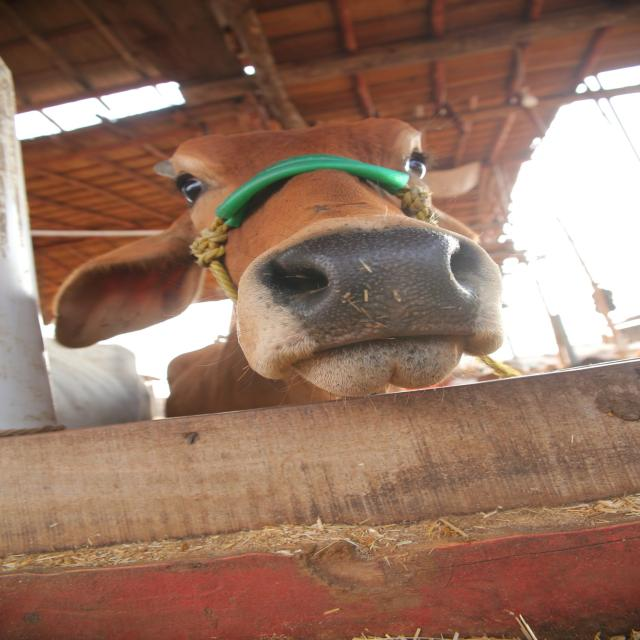muzzles: (261, 217, 496, 358)
